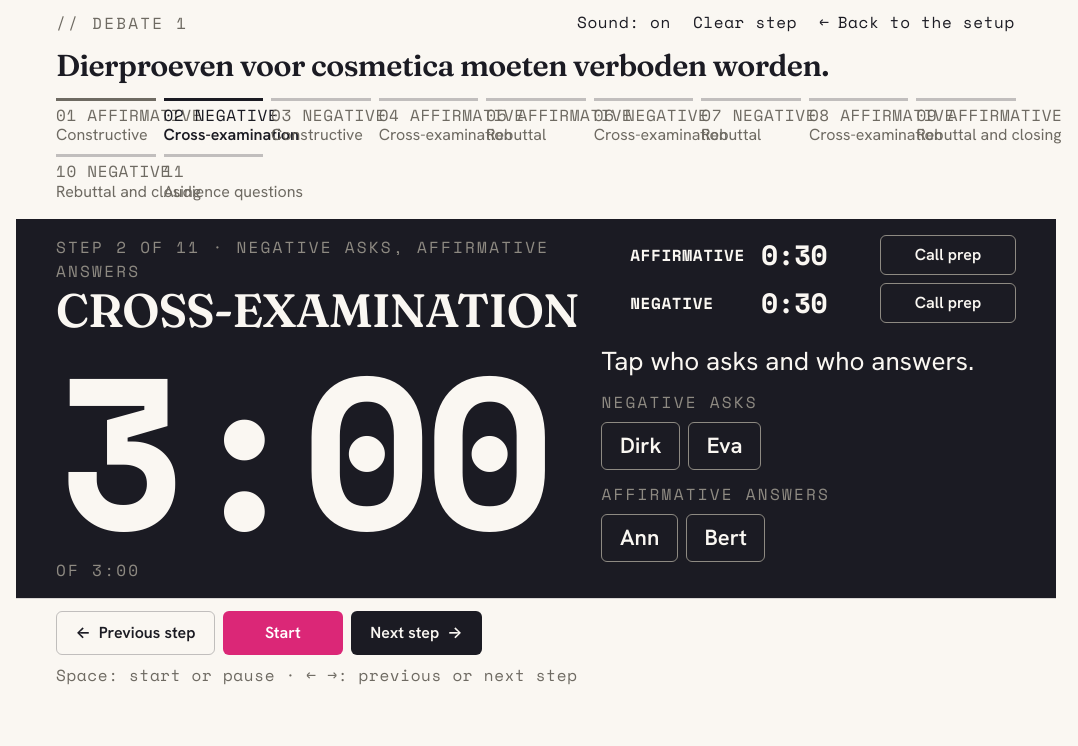
Test: the steps and prep time of #8 › shows who asks and who answers in a cross-examination, and records both
The image size is (1078, 746).
Expected: the heading "Cross-examination" is shown, [56, 287, 598, 334]
Expected: the text "Step 2 of 11 · NEGATIVE asks, AFFIRMATIVE answers" is shown, [56, 235, 598, 283]
Click the button "Dirk".
click(641, 446)  # box [602, 422, 680, 470]
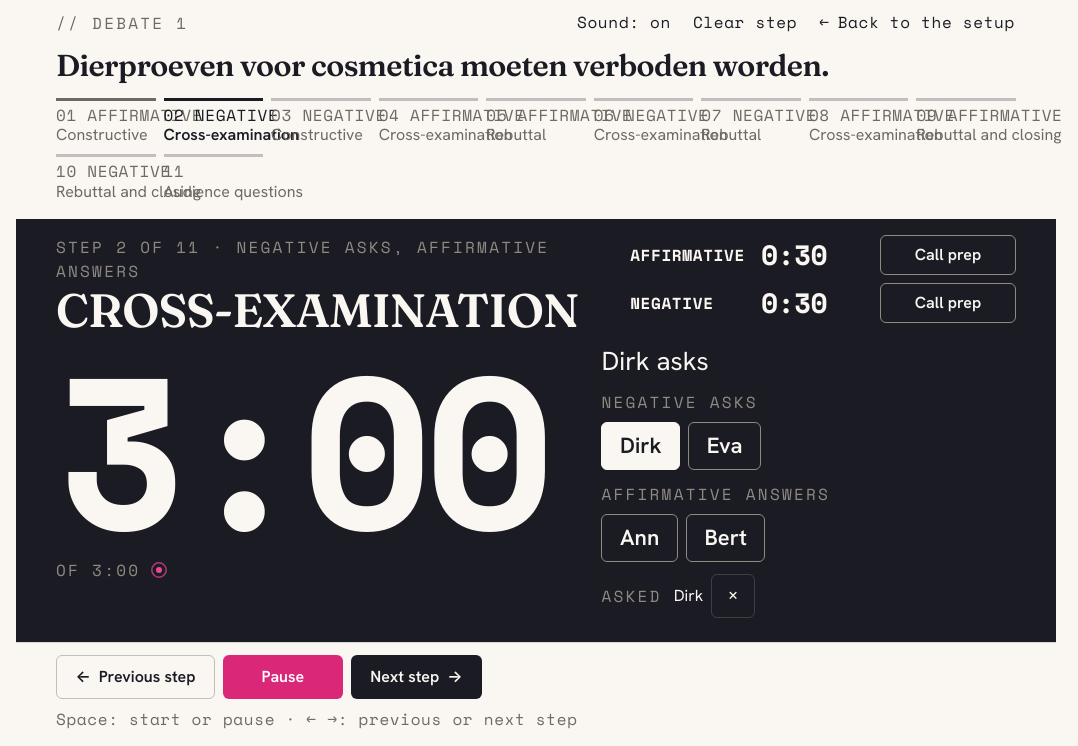
Expected: the text "Dirk asks" is shown, [602, 344, 709, 378]
Expected: the button "Pause" is shown, [223, 655, 343, 699]
Click the button "Bert".
click(726, 538)  # box [686, 514, 765, 562]
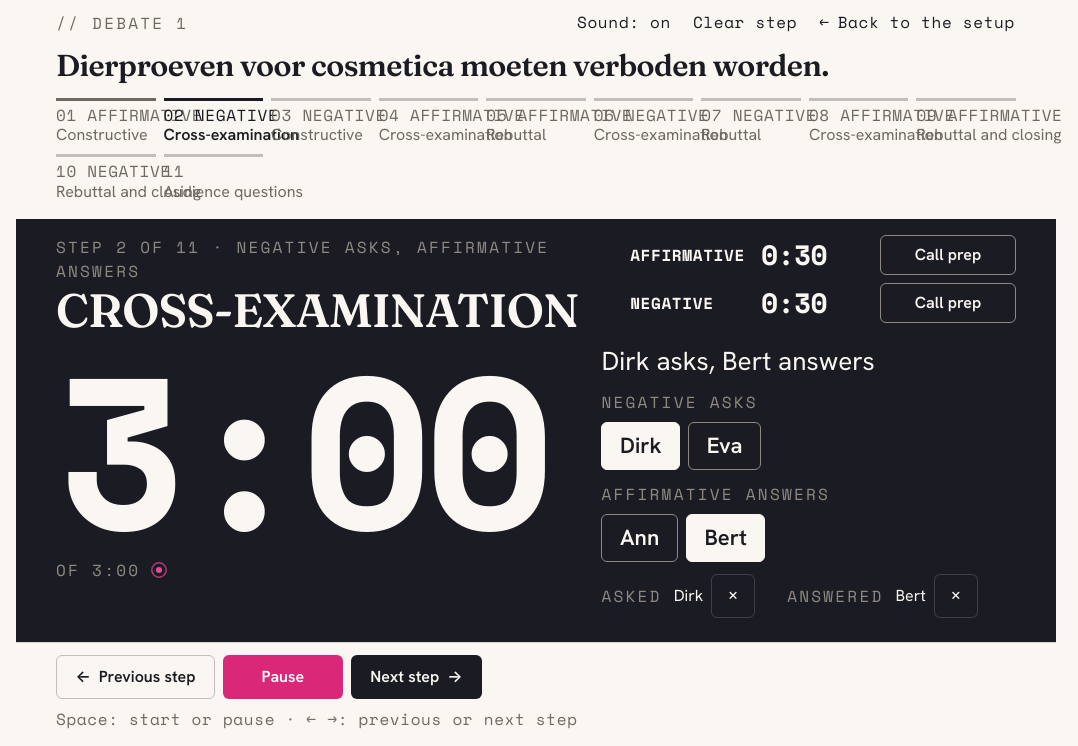
Expected: the text "Asked" is shown, [602, 584, 662, 608]
Expected: the text "Dirk asks, Bert answers" is shown, [602, 344, 875, 378]
Expected: the text "Answered" is shown, [787, 584, 884, 608]
Click the button named "Remove Bert from the speakers".
click(956, 596)  # box [934, 574, 978, 618]
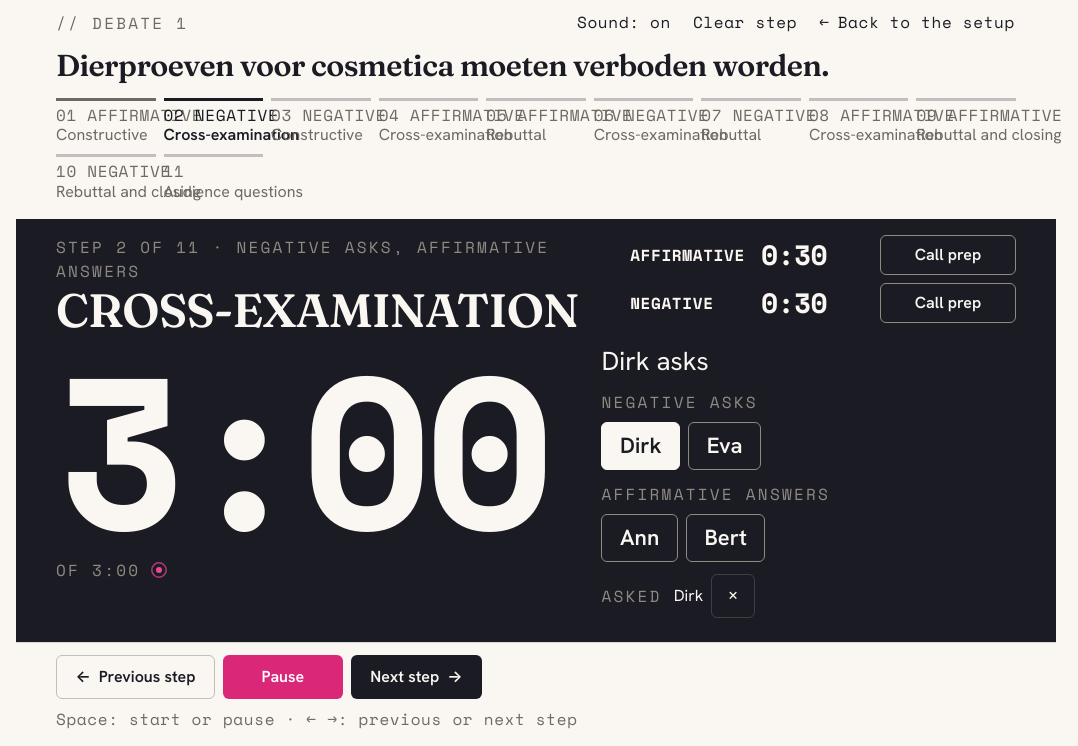
Expected: the text "Dirk asks" is shown, [602, 344, 709, 378]
Expected: the text "Answered" is gone
